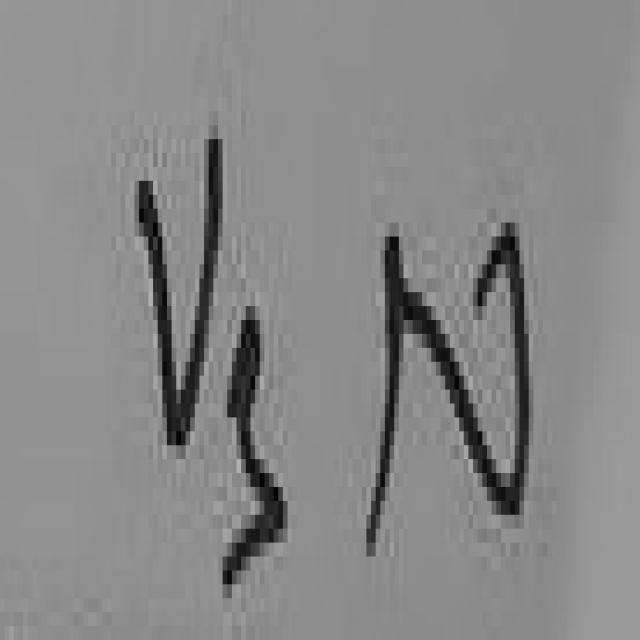3: (225, 320, 288, 587)
N: (371, 223, 533, 550)
V: (139, 139, 223, 438)
